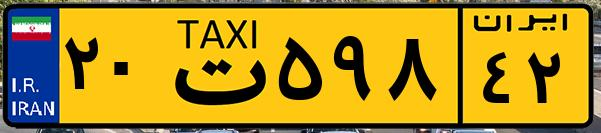0: (110, 28, 158, 98)
2: (57, 26, 110, 100), (525, 38, 570, 115)
4: (475, 38, 525, 113)
5: (270, 28, 330, 110)
8: (385, 28, 445, 110)
9: (330, 28, 385, 110)
ت: (158, 12, 270, 120)
